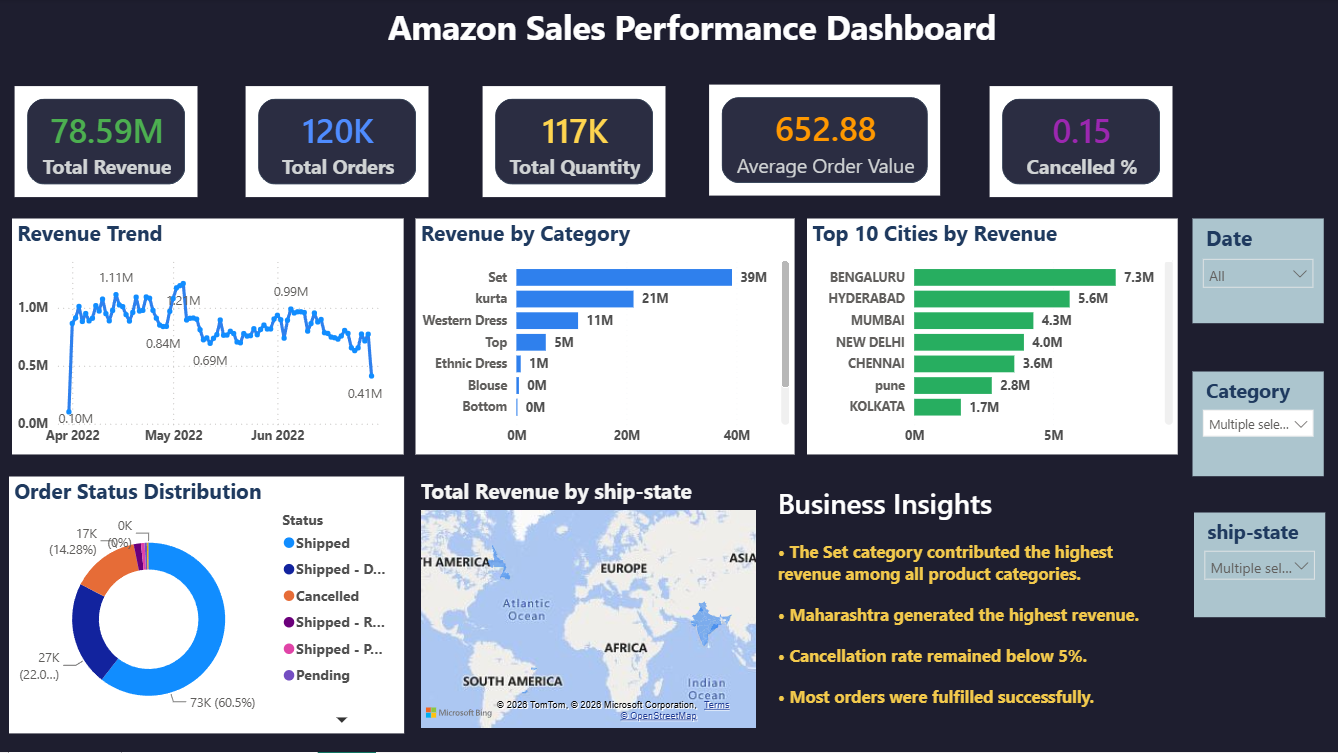

The page's visual inventory and layout, read from the dashboard file:
{"tool":"powerbi","page":{"name":"Page 1","canvas":[1280,720],"ordinal":0},"visuals":[{"type":"textbox","box":[365.8,0,637.5,60.6],"z":0},{"type":"cardVisual","fields":{"Data":["Amazon_Sales.Total Revenue"]},"box":[9.1,78.7,185,116],"z":1000},{"type":"cardVisual","fields":{"Data":["Amazon_Sales.Total Quantity"]},"box":[455.5,78.8,185,116],"z":2000},{"type":"cardVisual","fields":{"Data":["Amazon_Sales.Average Order Value"]},"box":[671.8,77.3,231,116],"z":3000},{"type":"cardVisual","fields":{"Data":["Amazon_Sales.Total Orders"]},"box":[229.2,78.8,185,116],"z":4000},{"type":"cardVisual","fields":{"Data":["Amazon_Sales.Cancelled %"]},"box":[939.6,78.8,185,116],"z":5000},{"type":"slicer","title":"Date","fields":{"Values":["Amazon_Sales.Date"]},"box":[1138.8,210.6,125,100],"z":6000},{"type":"slicer","fields":{"Values":["Amazon_Sales.Category"]},"box":[1138.8,356.7,125,100],"z":7000},{"type":"slicer","fields":{"Values":["Amazon_Sales.ship-state"]},"box":[1140.2,491.3,125,100],"z":8000},{"type":"lineChart","title":"Revenue Trend","fields":{"Y":["Amazon_Sales.Total Revenue"],"Category":["Amazon_Sales.Date"]},"box":[12.1,210.5,374,225.6],"z":9000},{"type":"clusteredBarChart","title":"Revenue by Category","fields":{"Y":["Amazon_Sales.Total Revenue"],"Category":["Amazon_Sales.Category"]},"box":[396.7,210.5,361.9,225.6],"z":10000},{"type":"donutChart","title":"Order Status Distribution","fields":{"Category":["Amazon_Sales.Status"],"Y":["Amazon_Sales.Total Orders"]},"box":[9.1,457.3,377,245.3],"z":11000},{"type":"filledMap","fields":{"Category":["Amazon_Sales.ship-state"]},"box":[396.7,457.3,330.1,245.3],"z":12000},{"type":"clusteredBarChart","title":"Top 10 Cities by Revenue","fields":{"Category":["Amazon_Sales.ship-city"],"Y":["Amazon_Sales.Total Revenue"]},"box":[770.7,210.5,354.3,225.6],"z":13000},{"type":"textbox","box":[737.7,458.4,386.7,244.9],"z":14000}]}

Visuals, with their boxes in screenshot pixels (x1, y1, x2, y2), scaled from the page's 1280x720 canvas onto the 1338x753 screenshot:
textbox: 382/0/1049/63
cardVisual - Amazon_Sales.Total Revenue: 10/82/203/204
cardVisual - Amazon_Sales.Total Quantity: 476/82/670/204
cardVisual - Amazon_Sales.Average Order Value: 702/81/944/202
cardVisual - Amazon_Sales.Total Orders: 240/82/433/204
cardVisual - Amazon_Sales.Cancelled %: 982/82/1176/204
"Date" slicer: 1190/220/1321/325
slicer - Amazon_Sales.Category: 1190/373/1321/478
slicer - Amazon_Sales.ship-state: 1192/514/1323/618
"Revenue Trend" lineChart: 13/220/404/456
"Revenue by Category" clusteredBarChart: 415/220/793/456
"Order Status Distribution" donutChart: 10/478/404/735
filledMap - Amazon_Sales.ship-state: 415/478/760/735
"Top 10 Cities by Revenue" clusteredBarChart: 806/220/1176/456
textbox: 771/479/1175/736
